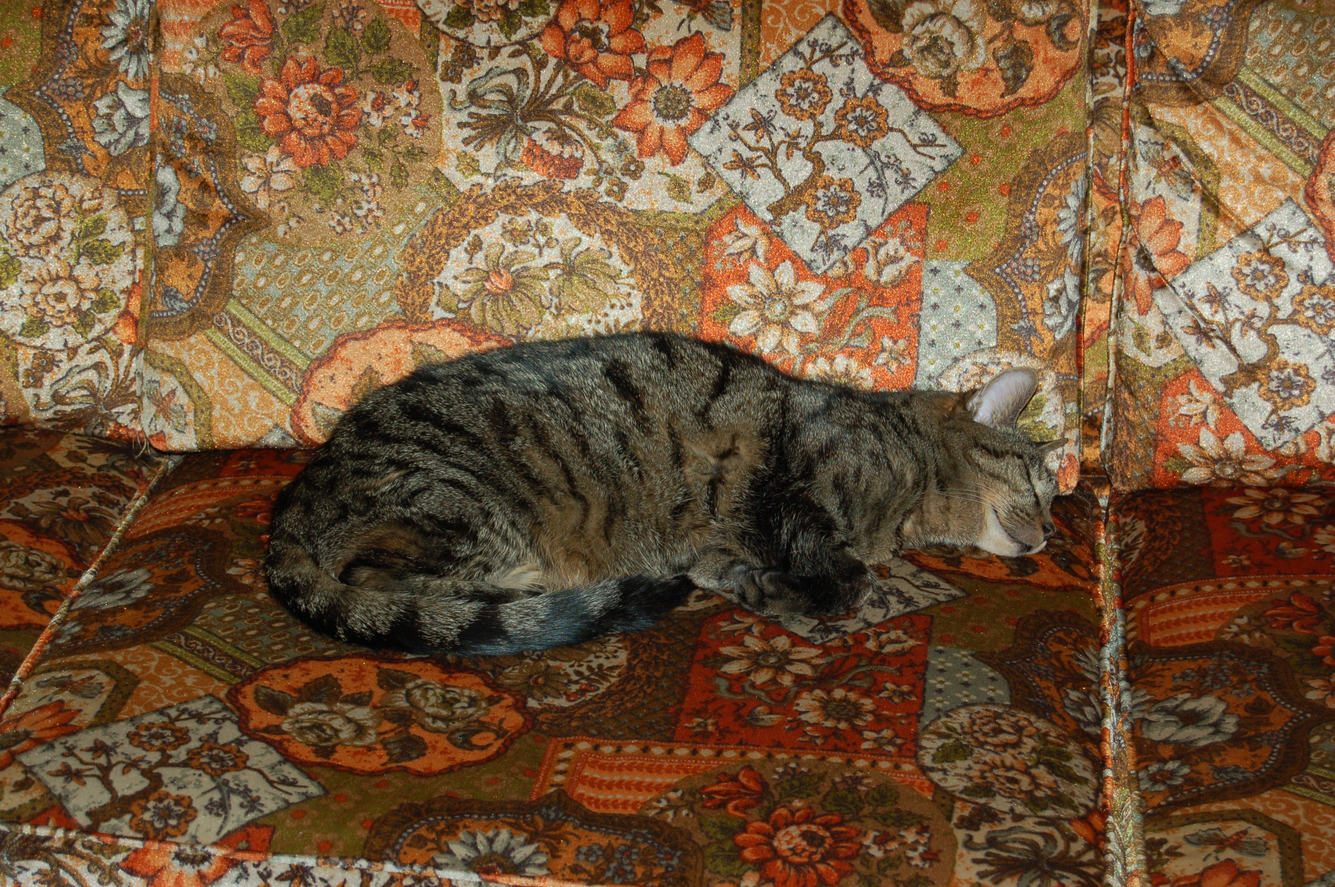cat: (260, 325, 1071, 663)
